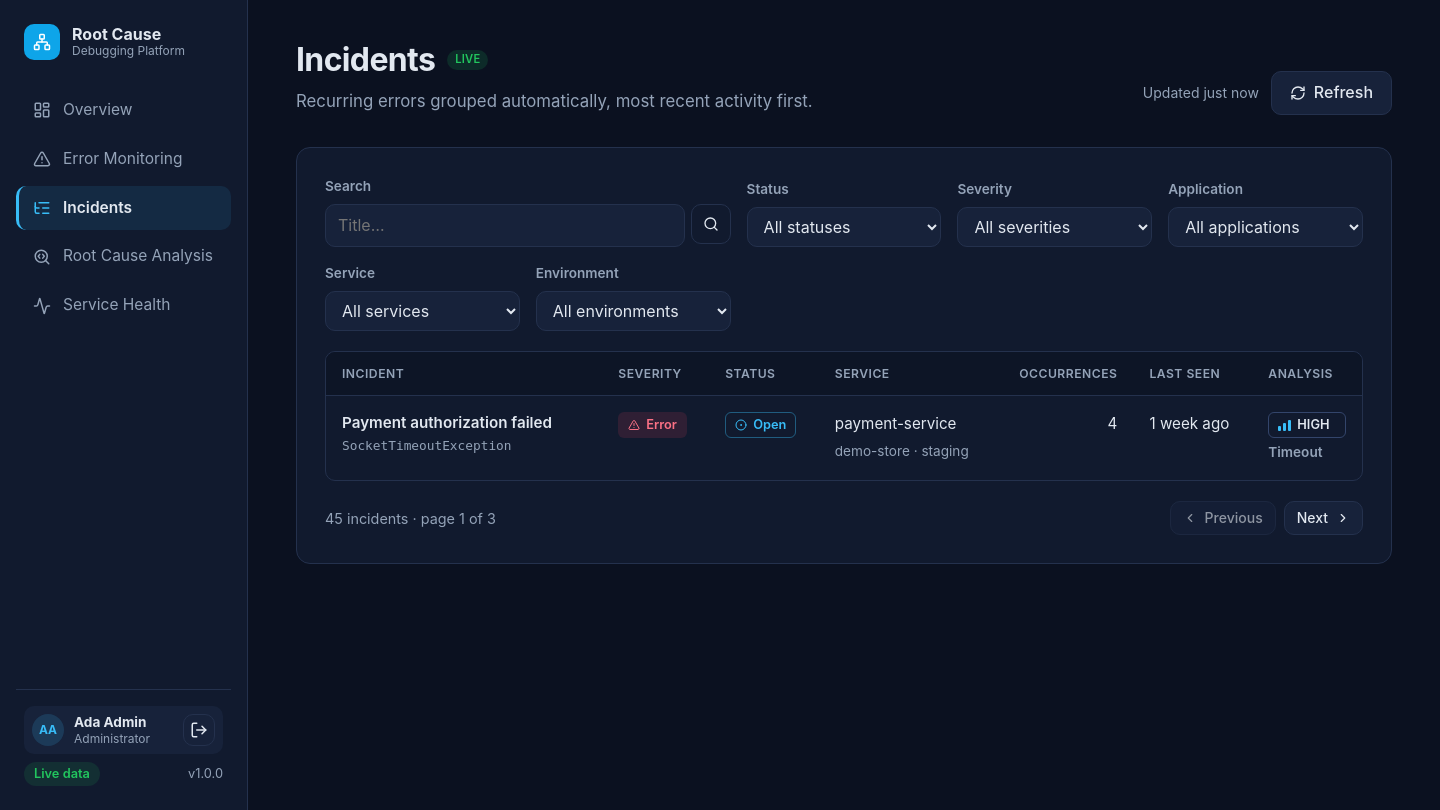
IncidentsPage › paginates
Expected: the navigation bar named "incidents pages" shows "45 incidents · page 1 of 3", x1=325 y1=501 x2=1363 y2=536
What coordinates should you click on to do the following:
click the button "Next"
I would click on:
 (1323, 518)
Its box is x1=1284 y1=501 x2=1363 y2=536.
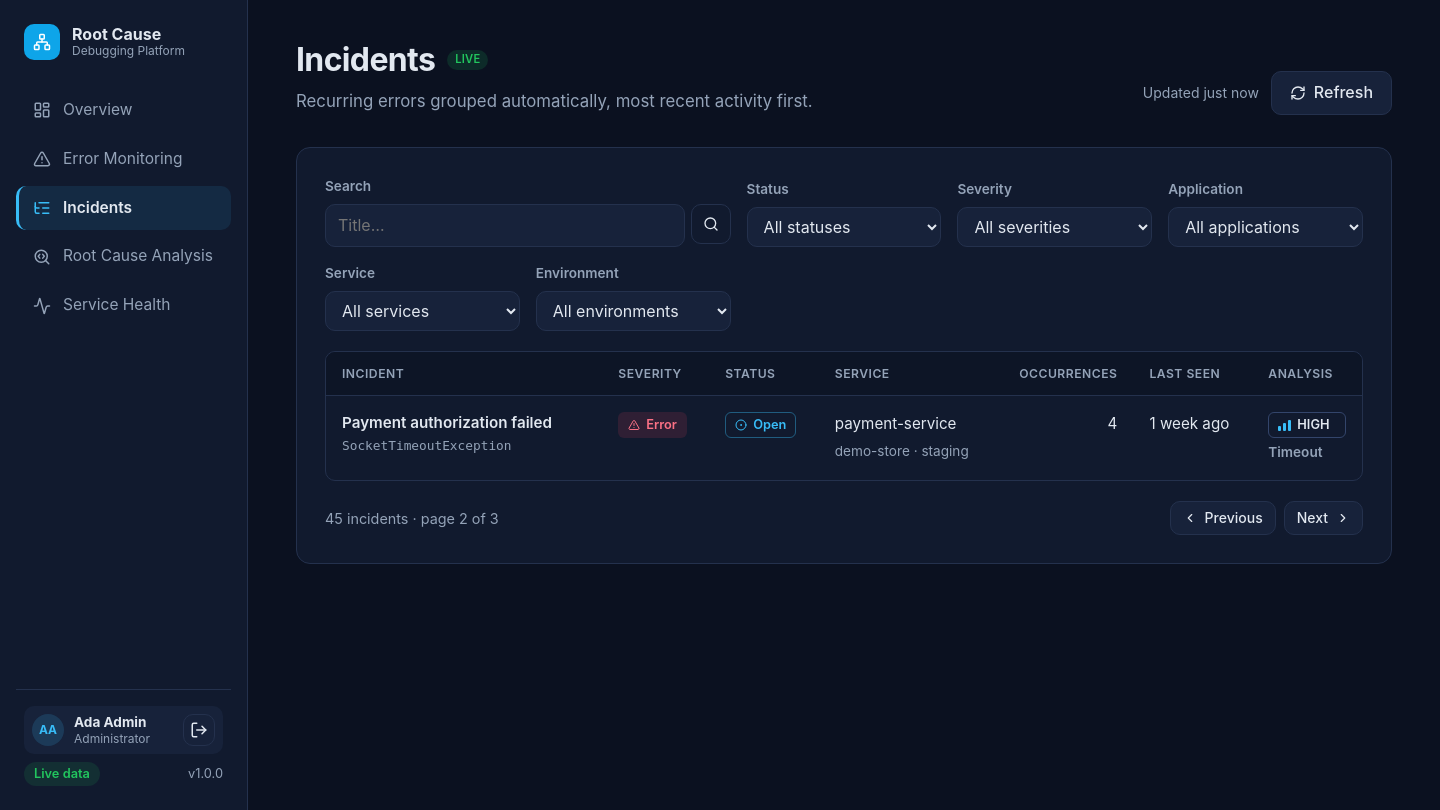
Now the navigation bar named "incidents pages" shows "page 2 of 3", box x1=325 y1=501 x2=1363 y2=536
Now the button "Previous" is enabled, box x1=1170 y1=501 x2=1276 y2=536
